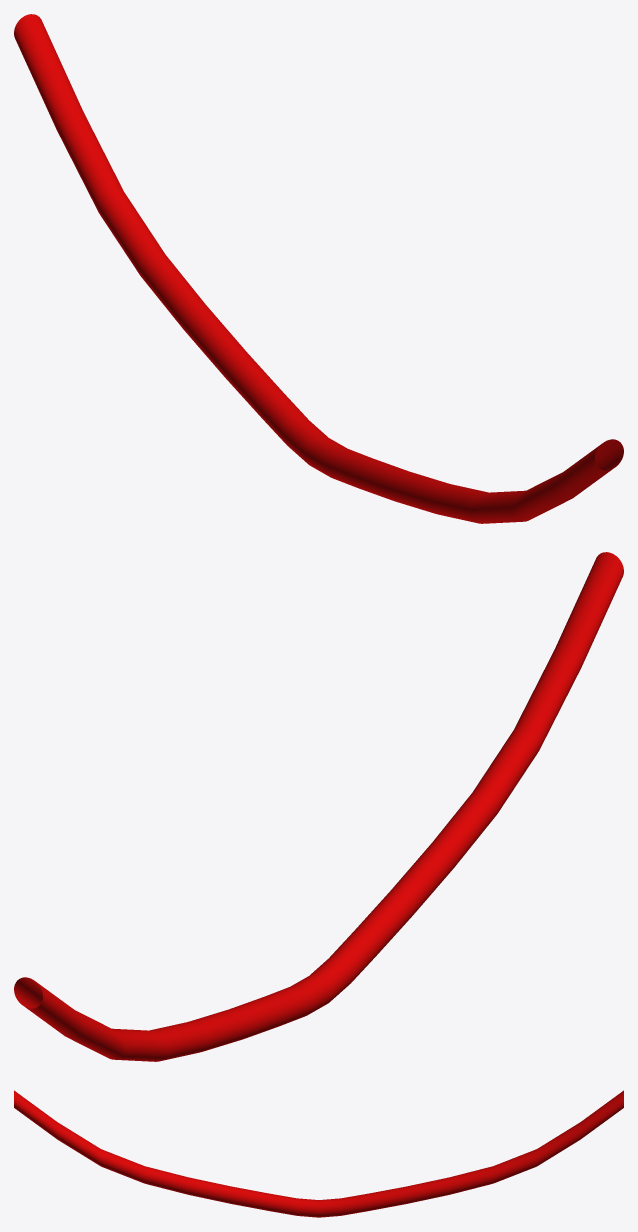
The model's file is Rope.FBX.
3 renders of one model, top to bottom at view 1: azimuth 30°, elevation 25°; view 2: azimuth 150°, elevation 25°; view 3: azimuth 270°, elevation 25°, orthographic. The views are drawn at different scales.
Visible parts, largest first — view 1: Rope_019; view 2: Rope_019; view 3: Rope_019.
Part boxes in pixels (x1,y1,x2,y2): Rope_019: (14,14,623,523); Rope_019: (14,552,623,1061); Rope_019: (14,1090,623,1217).
Bounding box in the file's own units: 6.94 × 240 × 54.61.
